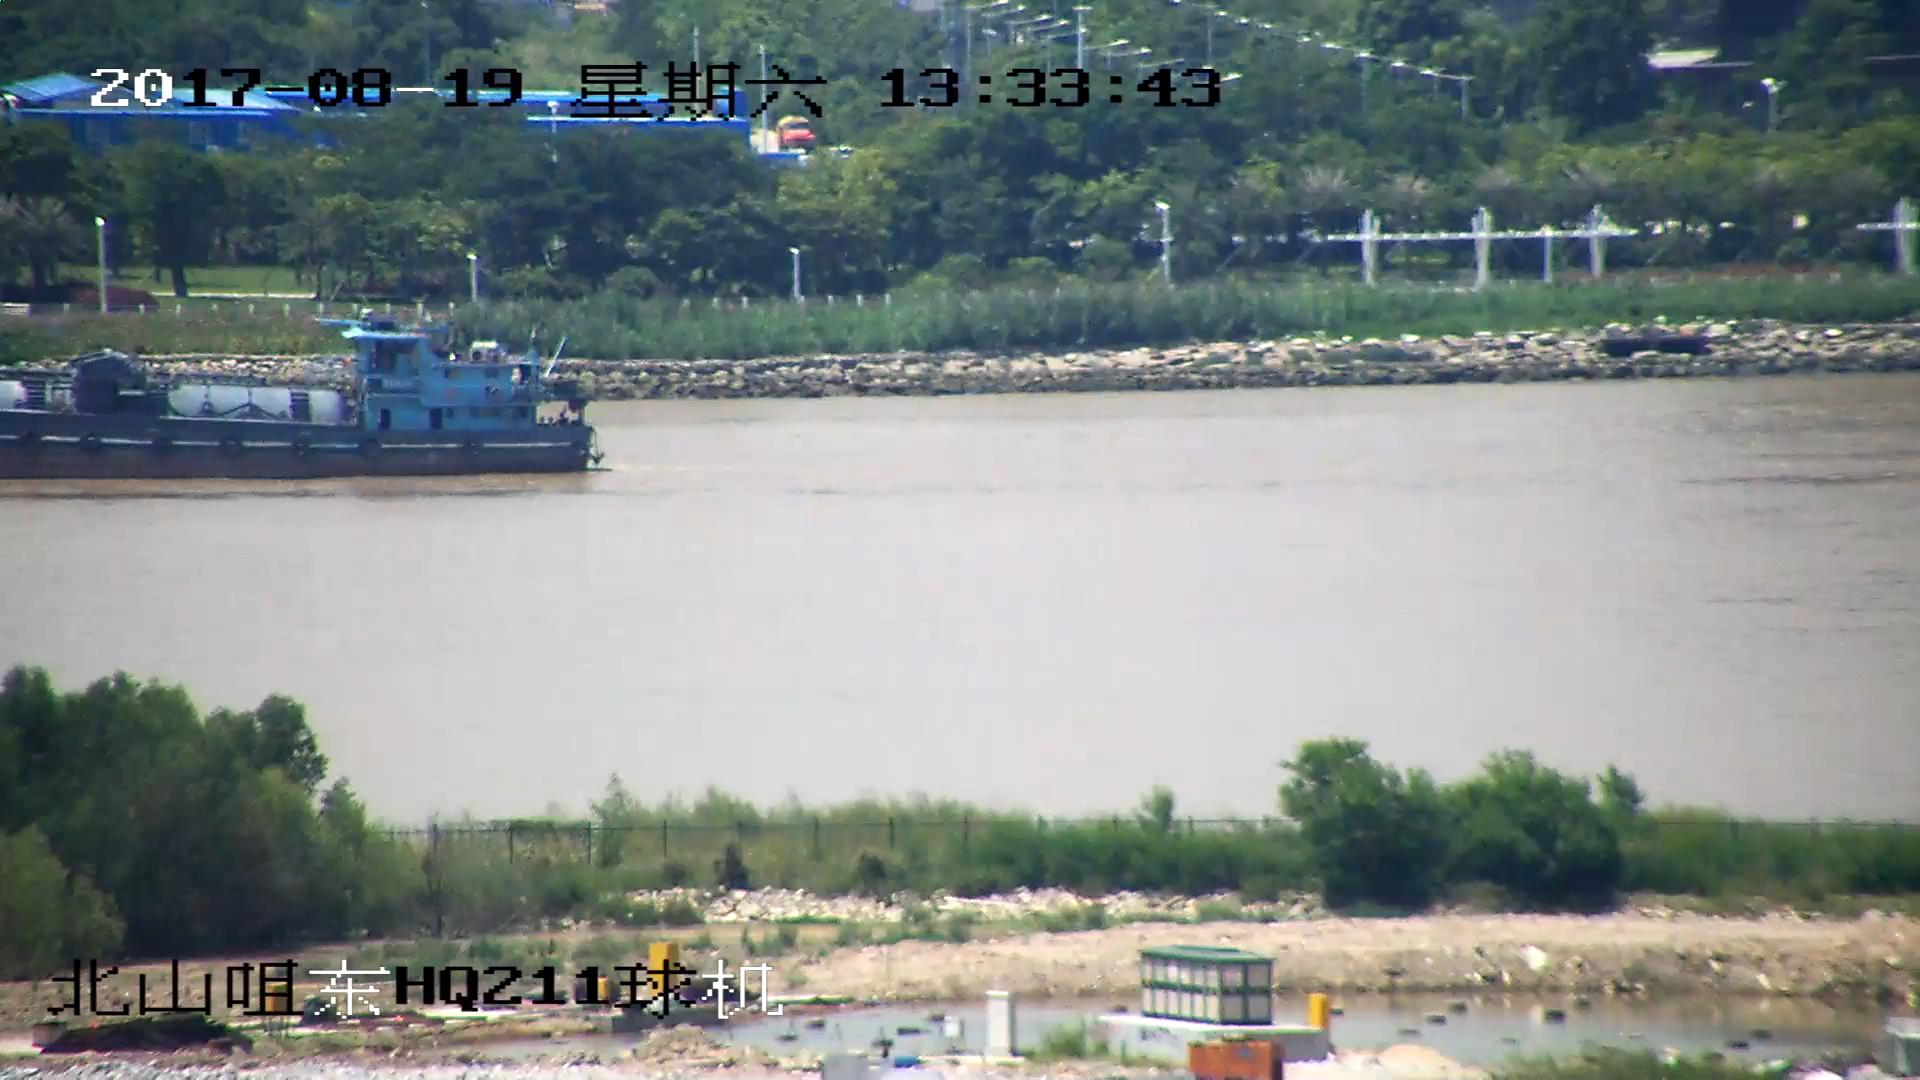bulk cargo carrier: (1, 322, 601, 473)
